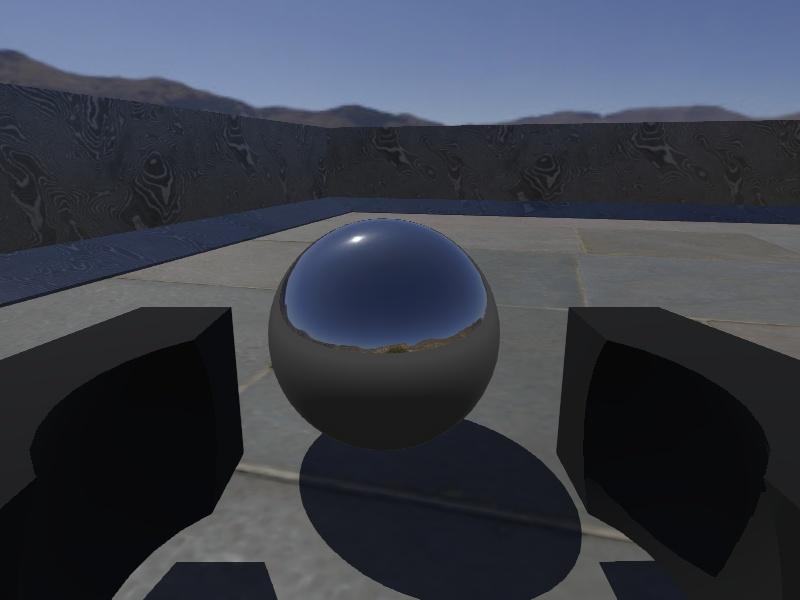steel ball: (267, 218, 502, 452)
